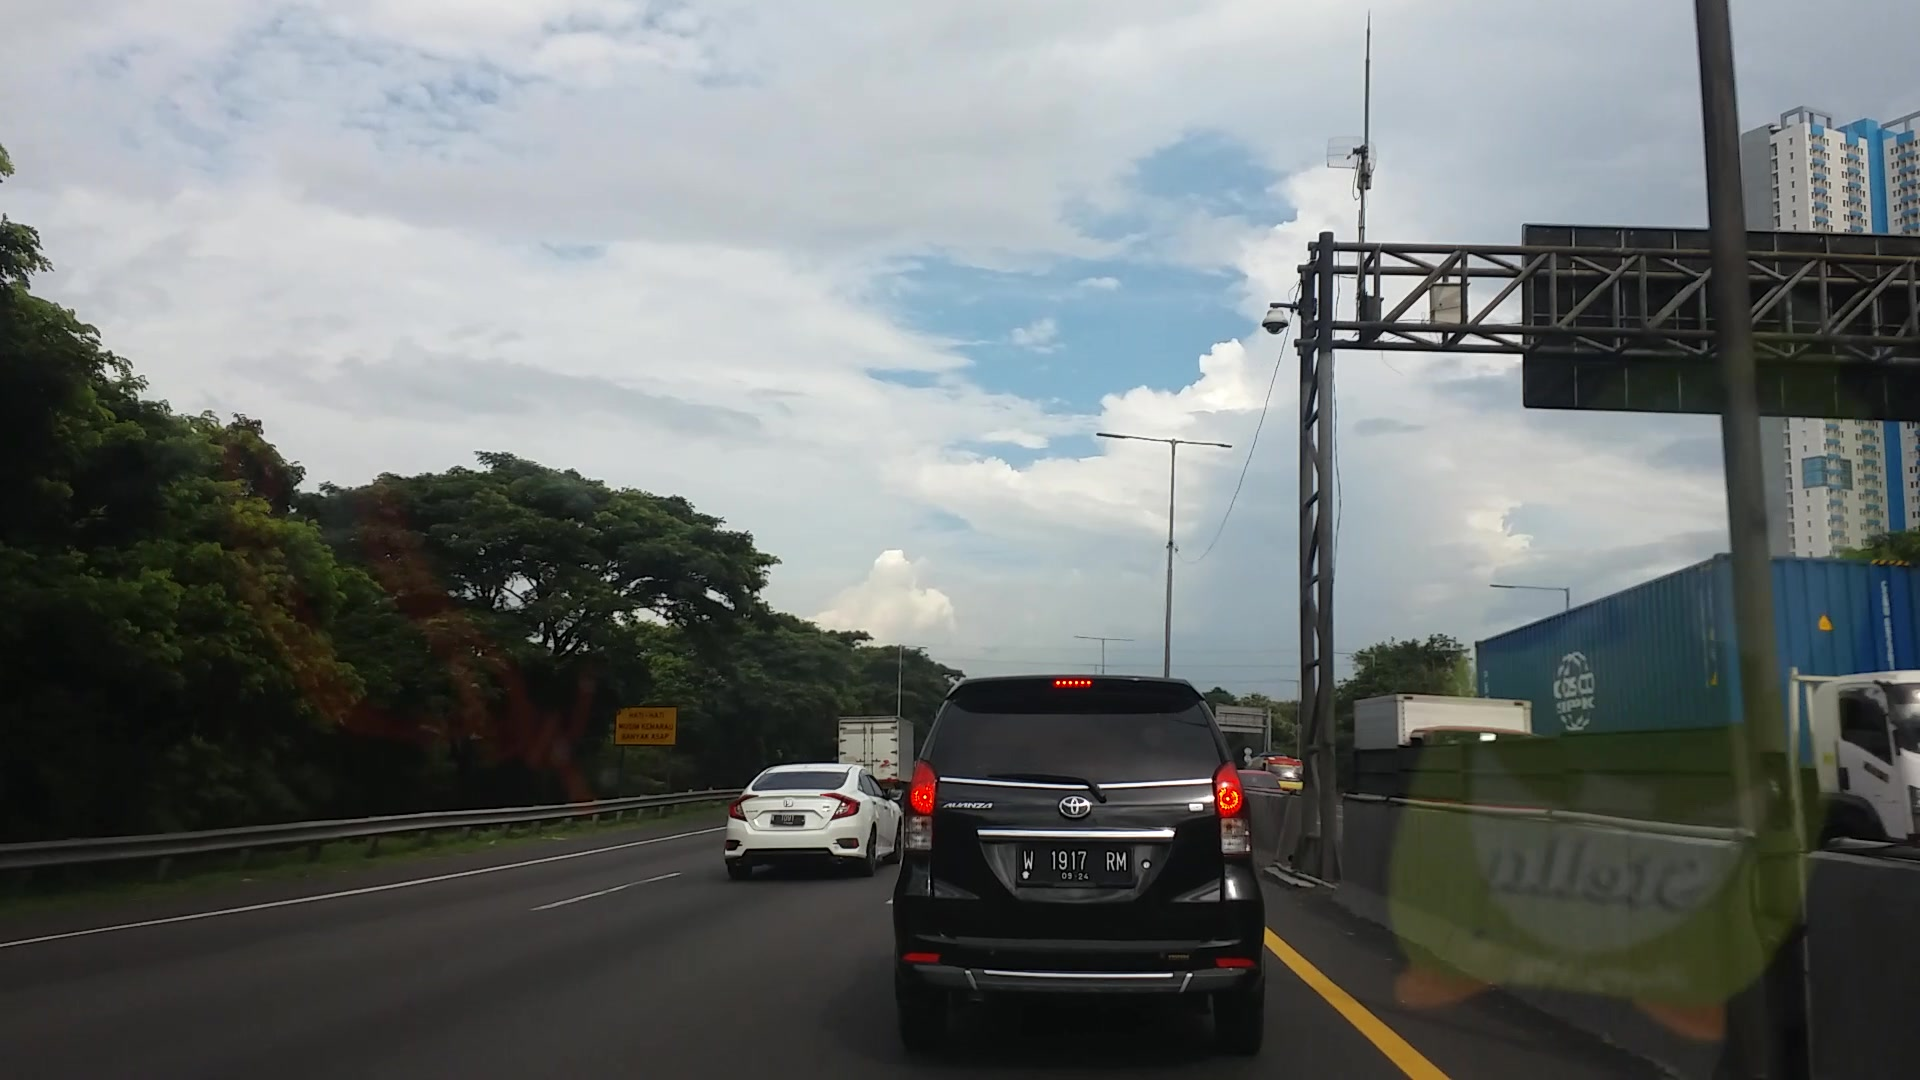plate_positive: (1017, 843, 1134, 887)
